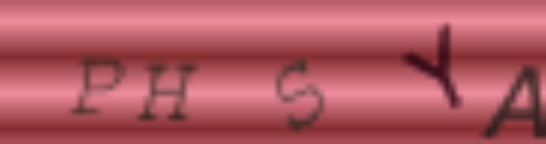A: (480, 62, 546, 141)
H: (137, 61, 201, 126)
P: (67, 51, 127, 121)
S: (272, 56, 328, 131)
Y: (402, 19, 470, 114)
